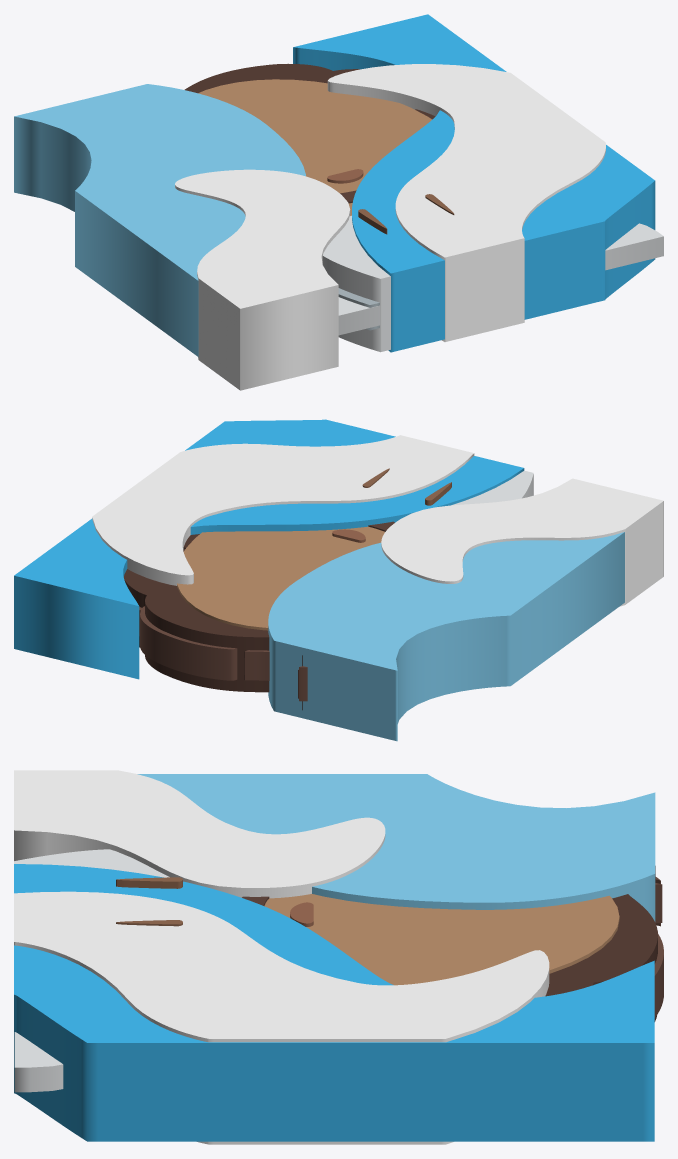
File: emoji_u1f9d6_1f3fd.glb
3 views of the same model, one above another, from view 1: azimuth 30°, elevation 25°; view 2: azimuth 150°, elevation 25°; view 3: azimuth 270°, elevation 25° (orthographic). The views are drawn at different scales.
Visible parts, largest first — view 1: emoji_u1f9d6_1f3fd; view 2: emoji_u1f9d6_1f3fd; view 3: emoji_u1f9d6_1f3fd.
Part boxes in pixels (box(x1,y1,x2,y2)): emoji_u1f9d6_1f3fd: box(14, 14, 663, 390); emoji_u1f9d6_1f3fd: box(14, 419, 663, 741); emoji_u1f9d6_1f3fd: box(14, 770, 663, 1144).
Bounding box in the file's own units: 0.033 × 0.0064 × 0.0334.
